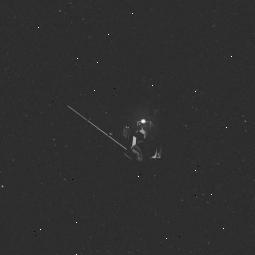earth_observation_sat_1: (64, 102, 167, 169)
